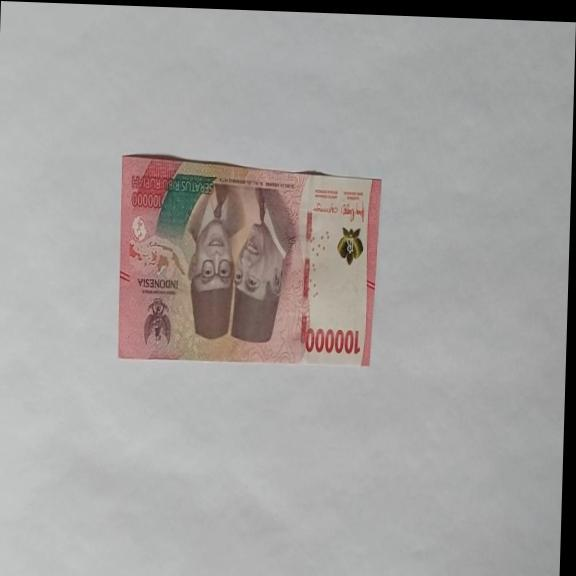Kertas: (114, 154, 382, 369), (303, 326, 361, 358)
